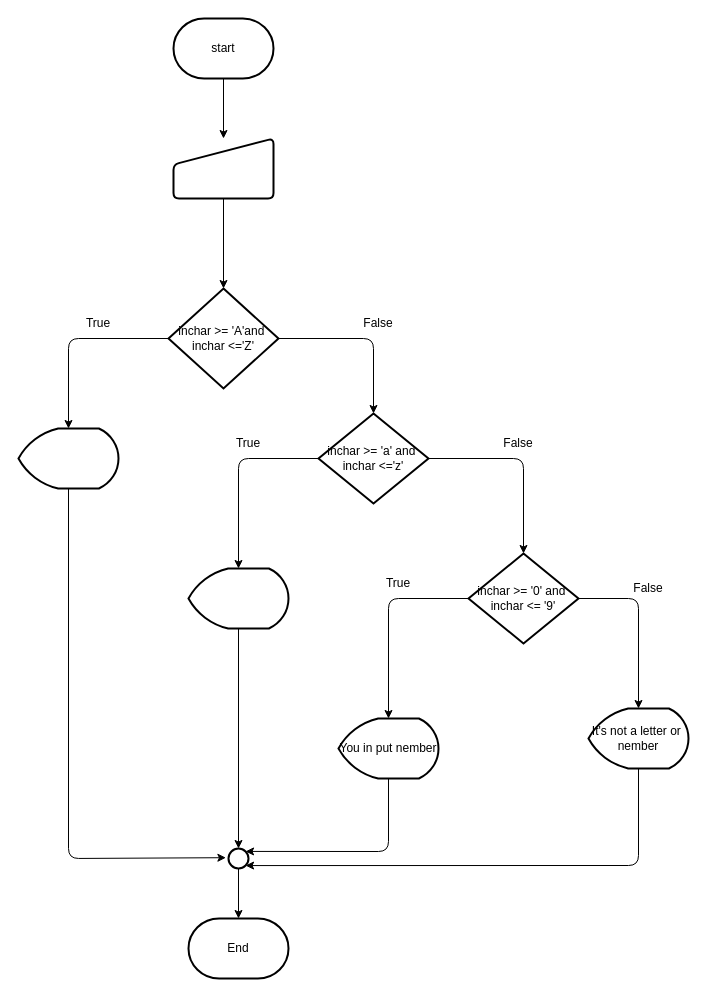
This 706x996 diagram has some shape labels left out. Each missing label, with the centre of its shape:
"Input one character" goes at (x=223, y=168).
"You in put Lower Case Letter" goes at (x=238, y=598).
"You in put Upper Case Letter" goes at (x=68, y=458).
